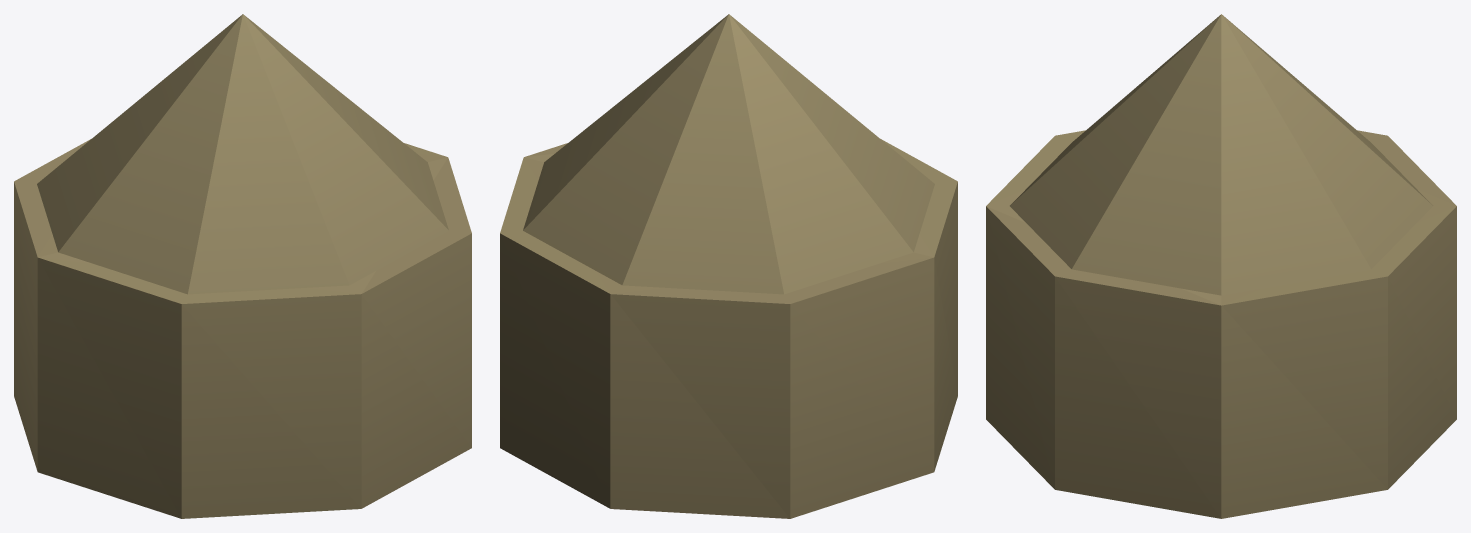
File: haystack.glb
3 views of the same model, side by side, from view 1: azimuth 30°, elevation 25°; view 2: azimuth 150°, elevation 25°; view 3: azimuth 270°, elevation 25° (orthographic).
Visible parts, largest first — view 1: haystack; view 2: haystack; view 3: haystack.
Boxes of the visible parts, bbox=[...] form: haystack: bbox=[14, 14, 471, 518]; haystack: bbox=[500, 14, 957, 518]; haystack: bbox=[986, 14, 1456, 518].
Size of the model in its own units: 1 by 0.95 by 1.
